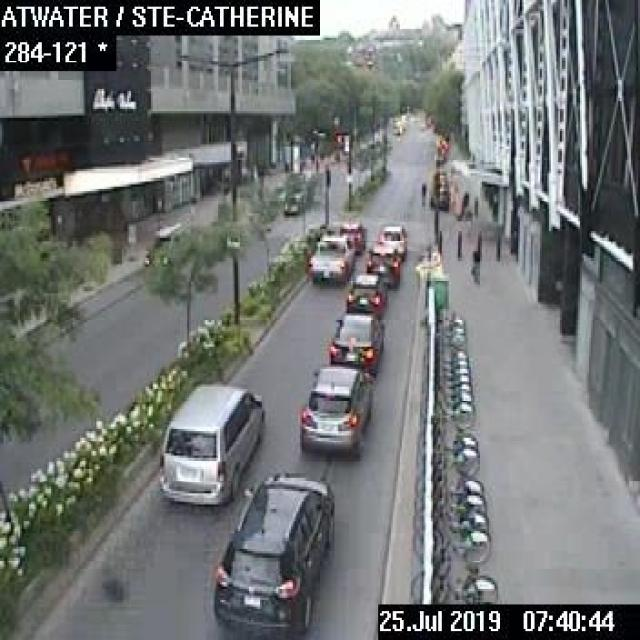cyclist: (418, 180, 426, 204)
pedestrian: (469, 248, 480, 282)
vehicle: (212, 472, 334, 636), (158, 383, 263, 503), (296, 364, 372, 449), (328, 313, 384, 372), (306, 233, 354, 282), (143, 221, 186, 265), (345, 272, 386, 312), (365, 244, 398, 283), (369, 223, 406, 255), (339, 221, 365, 252), (282, 191, 305, 213)
